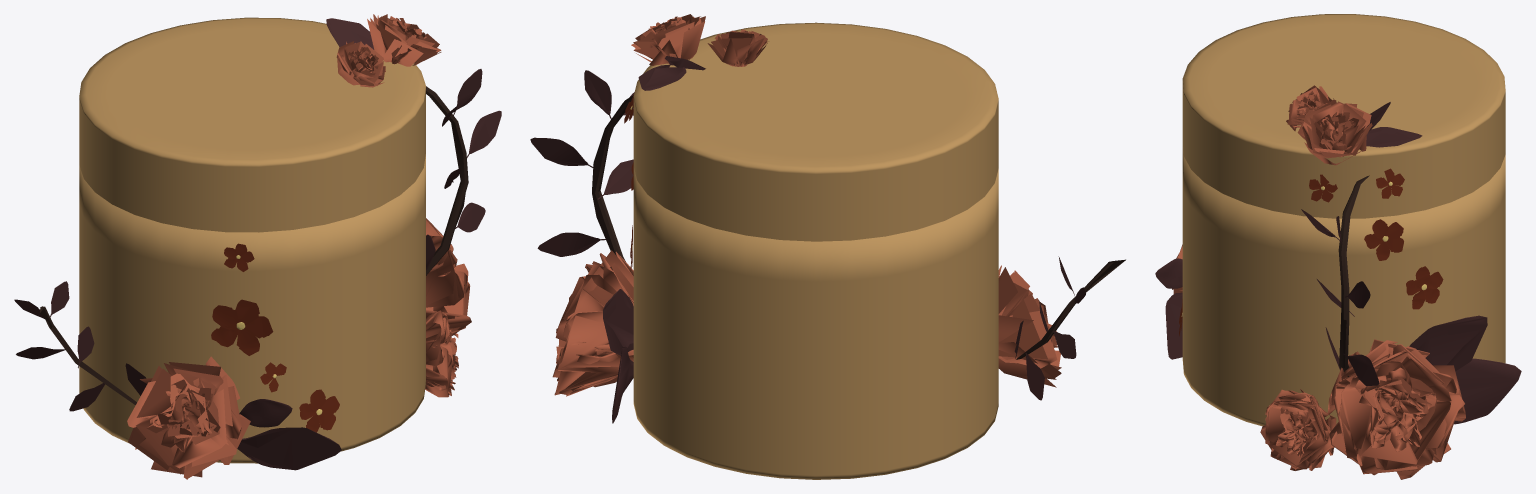
File: 1-tier-caramel-roses-none.glb
3 renders of one model, left to right at view 1: azimuth 30°, elevation 25°; view 2: azimuth 150°, elevation 25°; view 3: azimuth 270°, elevation 25°, orthographic. The views are drawn at different scales.
Visible parts, largest first — view 1: Cylinder.019, grid.039, Plane.083, Plane.074, Plane.075, grid.038, grid.041, grid.033, Sphere.050, grid.035, Sphere.054, Plane.073 (+2 smaller); view 2: Cylinder.019, grid.038, Plane.083, grid.039, grid.041, Plane.075, Plane.079, grid.035, Plane.086, Plane.080; view 3: Cylinder.019, grid.038, grid.033, grid.041, Plane.083, Plane.080, Plane.079, Sphere.057, Sphere.059, Plane.074, grid.035, Plane.086 (+3 smaller).
Boxes of the visible parts, <box> form: Cylinder.019: <box>79,17,425,463</box>; grid.039: <box>127,356,250,479</box>; Plane.083: <box>426,69,501,275</box>; Plane.074: <box>237,427,341,470</box>; Plane.075: <box>14,281,147,411</box>; grid.038: <box>426,218,471,337</box>; grid.041: <box>367,14,441,66</box>; grid.033: <box>425,310,458,397</box>; Sphere.050: <box>211,299,273,355</box>; grid.035: <box>336,41,385,87</box>; Sphere.054: <box>299,389,339,432</box>; Plane.073: <box>239,399,292,427</box>; Cylinder.019: <box>633,22,998,479</box>; grid.038: <box>552,250,633,396</box>; Plane.083: <box>530,70,634,261</box>; grid.039: <box>998,265,1061,387</box>; grid.041: <box>631,14,705,65</box>; Plane.075: <box>1014,256,1125,400</box>; Plane.079: <box>603,289,633,355</box>; grid.035: <box>707,29,768,66</box>; Plane.086: <box>638,65,686,90</box>; Plane.080: <box>612,346,633,423</box>; Cylinder.019: <box>1182,14,1505,426</box>; grid.038: <box>1327,339,1465,479</box>; grid.033: <box>1260,389,1336,470</box>; grid.041: <box>1297,99,1372,165</box>; Plane.083: <box>1301,175,1379,385</box>; Plane.080: <box>1454,358,1521,424</box>; Plane.079: <box>1409,315,1487,371</box>; Sphere.057: <box>1364,219,1403,260</box>; Sphere.059: <box>1406,266,1443,309</box>; Plane.074: <box>1165,292,1182,359</box>; grid.035: <box>1286,85,1333,131</box>; Plane.086: <box>1366,127,1422,147</box>.
Size of the model in its own units: 4.49 by 3.04 by 2.9.
